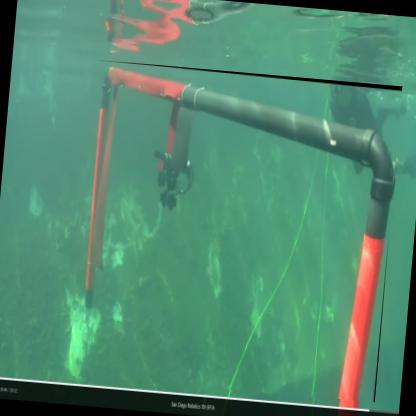gate: (69, 61, 405, 405)
